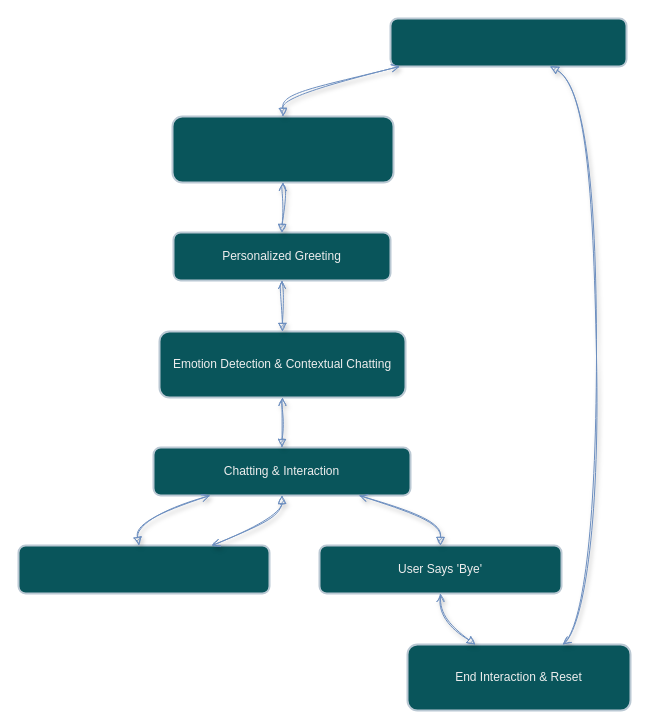
Image size: 648x728. Some labels were removed from this diagram. Each missing label, with the centre of its shape:
"Continuous Feedback Loop" goes at (x=143, y=569).
"Face Detection & Recognition" goes at (x=282, y=149).
"Trigger Phrase Detection" goes at (x=508, y=42).
